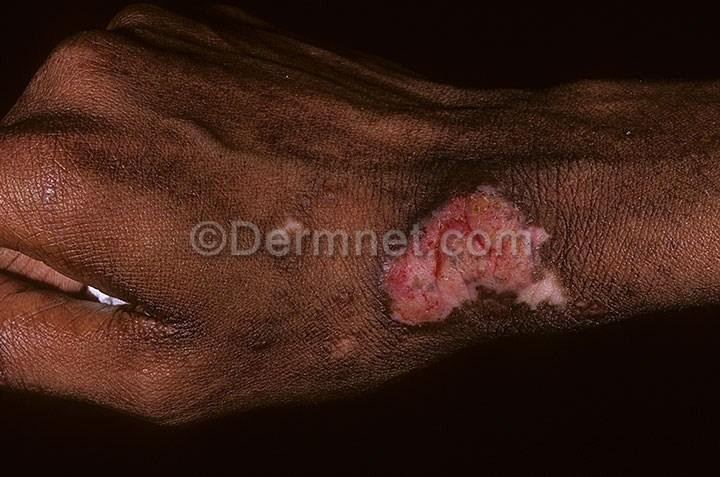Eczema: (384, 159, 587, 327)
